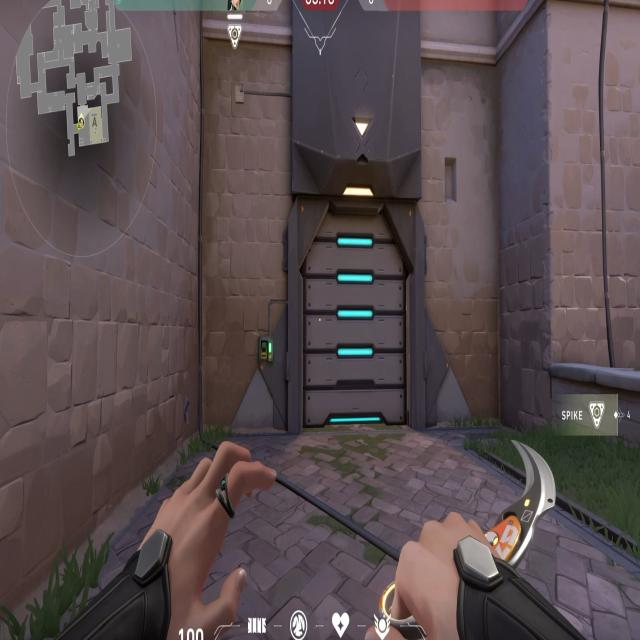A_Door: (294, 197, 414, 425)
